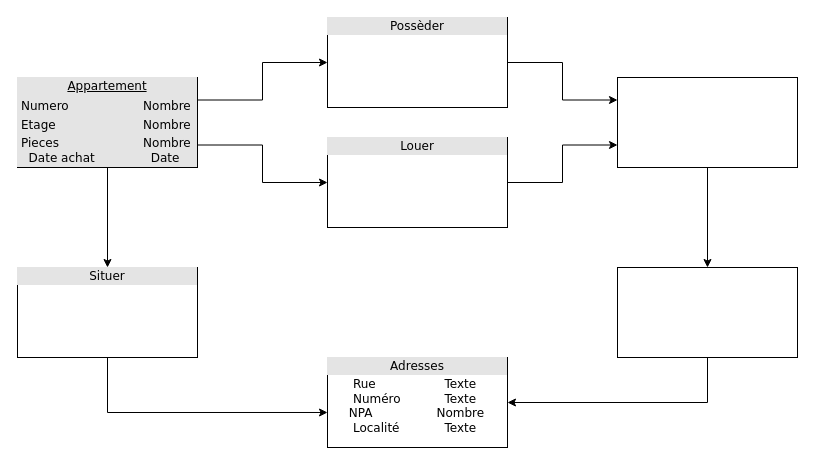
Some shapes in this 815 by 465 pixel diagram are drawn without their labels. The shapes that lost their labels are listed below. From the top down, each one's box as (x1, y1, x2, y2) in pixels, then its label:
(616, 76, 798, 168): Personnes Numero tel Texte Prenom Texte Nom Texte
(616, 266, 798, 358): Loger
